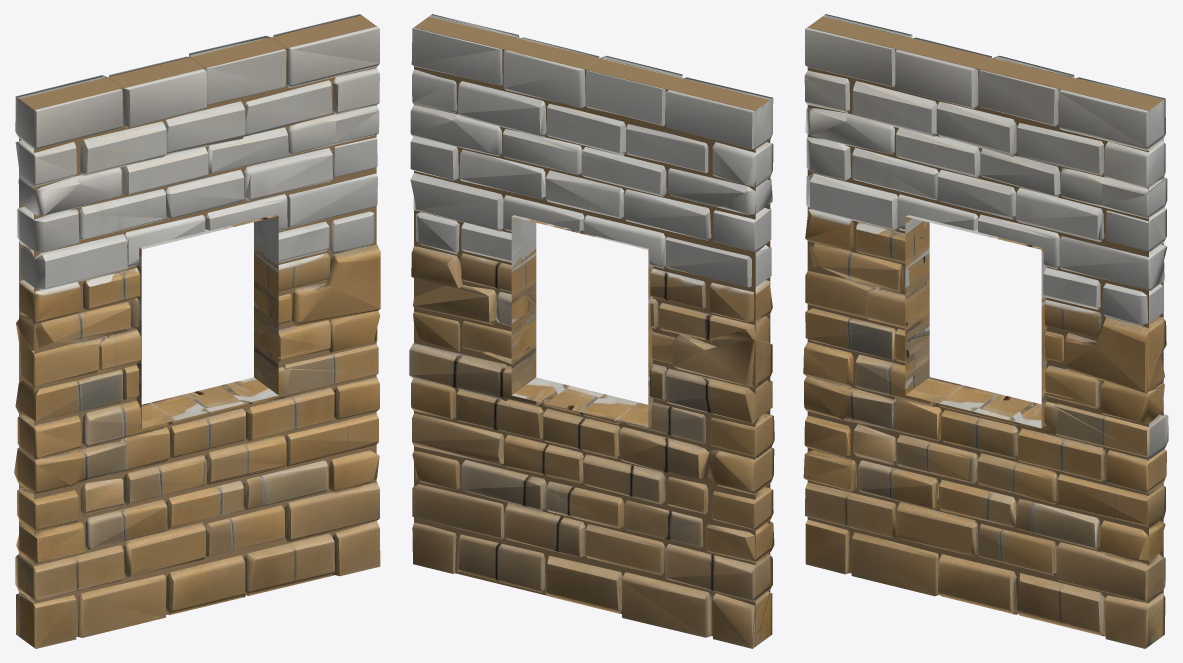
Rendered from wall-plaster-window.glb.
3 renders of one model, left to right at view 1: azimuth 30°, elevation 25°; view 2: azimuth 150°, elevation 25°; view 3: azimuth 330°, elevation 25°, orthographic.
Size of the model in its own units: 2 by 3 by 0.25.
1 material, 1 textured.
